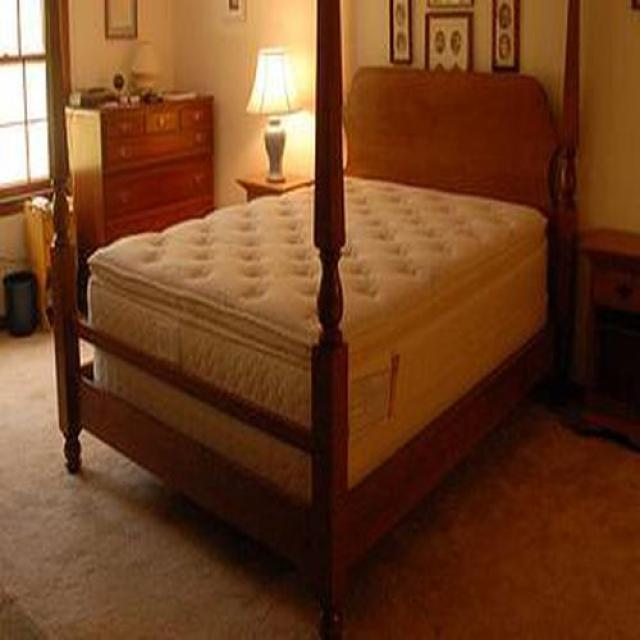bed: (77, 67, 563, 640)
